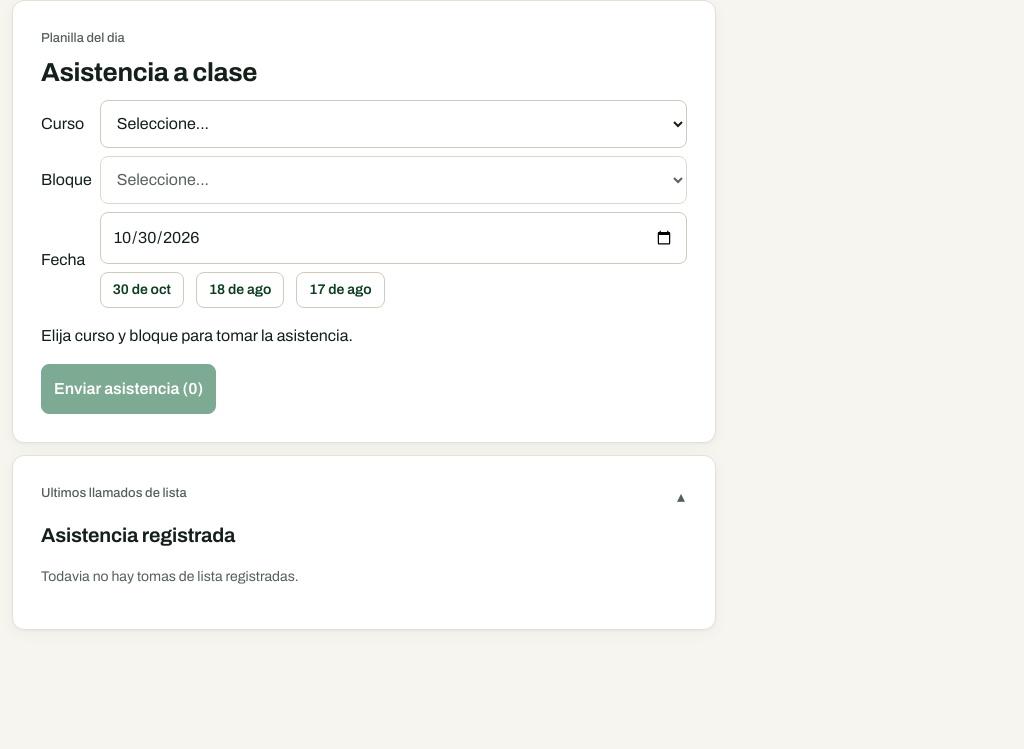
Test: TomarAsistencia › lista a los estudiantes por apellido, no por nombre
This screenshot has width=1024, height=749.
Type "2026-08-17" into the date field labelled "Fecha" at (393, 238), box [100, 212, 687, 264]
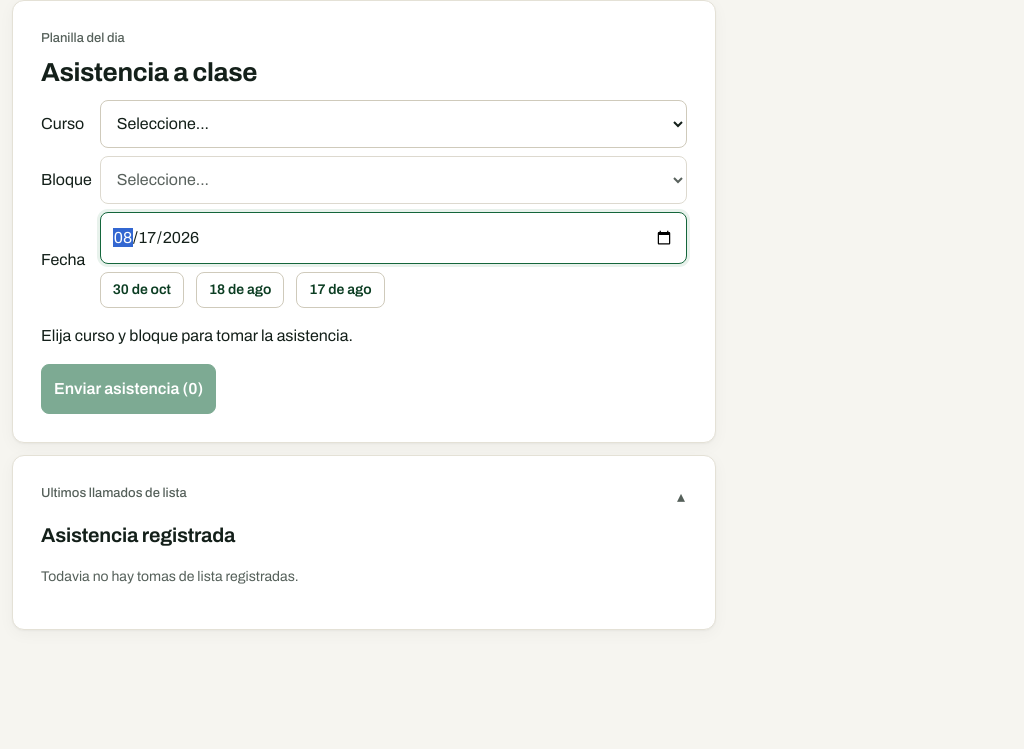
Select "601" in the dropdown labelled "Curso" at (393, 124), box [100, 100, 687, 148]
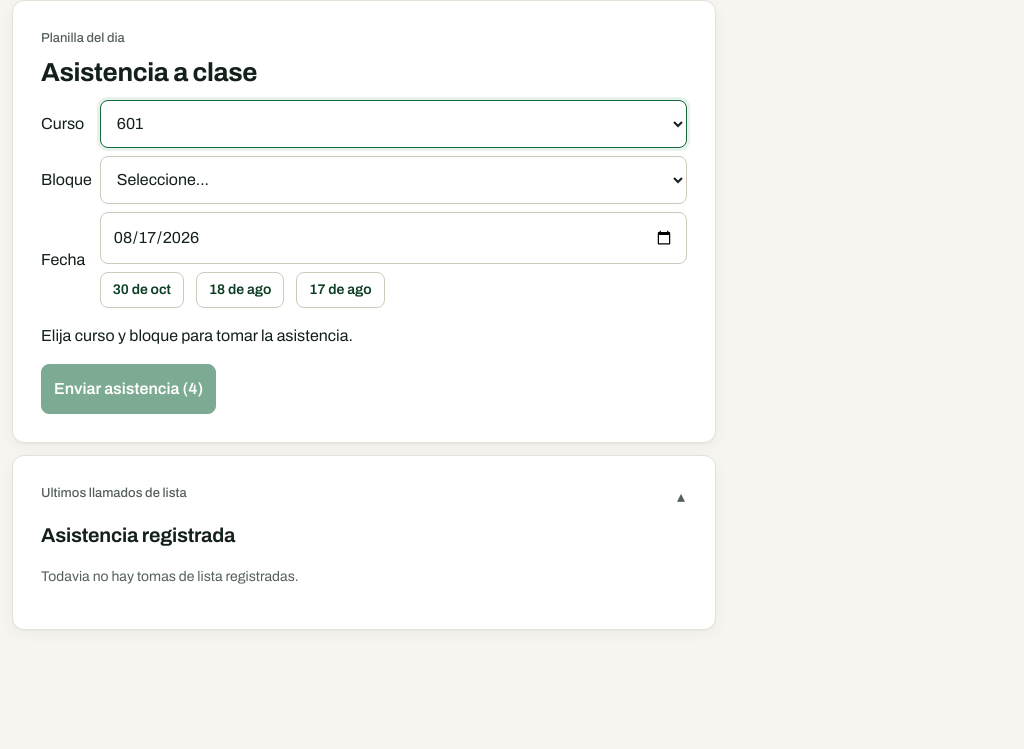
Now the dropdown labelled "Bloque" is enabled
Select "4. Ciencias (09:00) · Dia 1" in the dropdown labelled "Bloque" at (393, 180), box [100, 156, 687, 204]
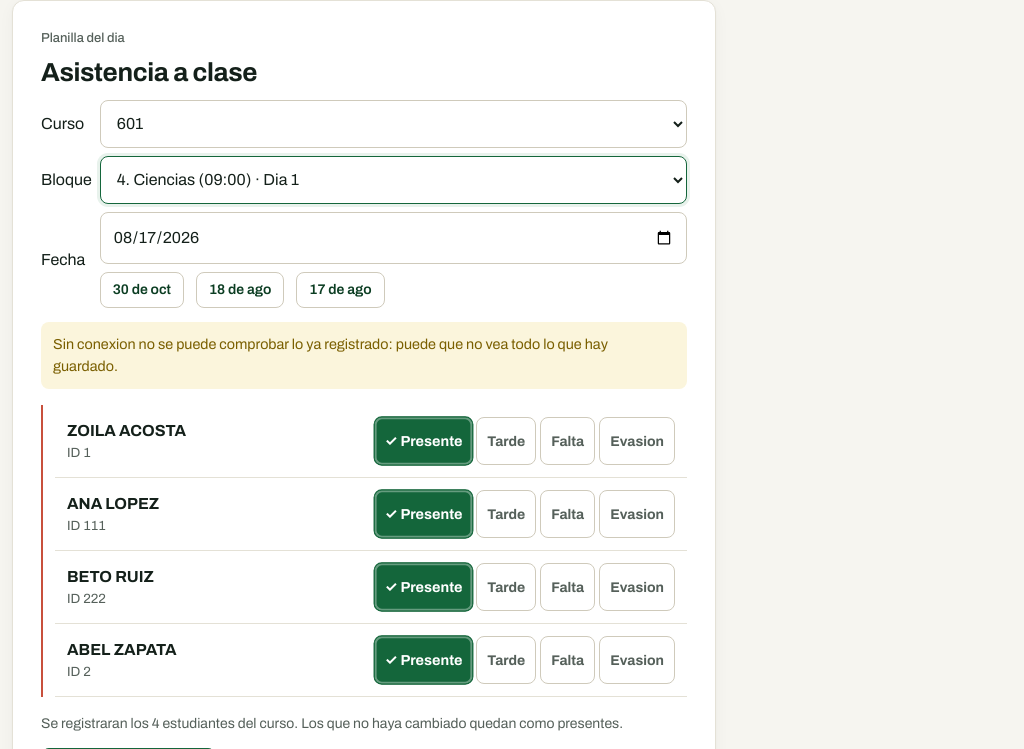
Now the text "ZOILA ACOSTA" is shown, box [67, 422, 186, 439]
